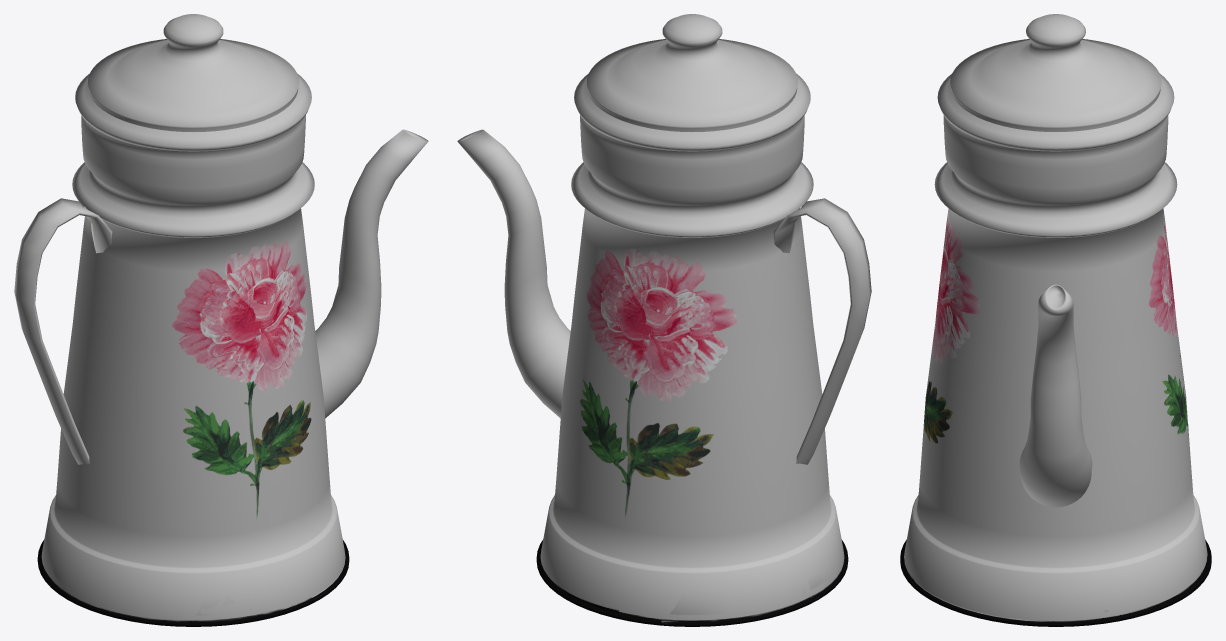
Rendered from TeaPot.fbx.
The picture shows the model from 3 angles, left to right: view 1: azimuth 30°, elevation 25°; view 2: azimuth 150°, elevation 25°; view 3: azimuth 270°, elevation 25°; orthographic projection.
Visible parts, largest first — view 1: Circle; view 2: Circle; view 3: Circle.
Boxes of the visible parts, bbox=[...] form: Circle: bbox=[14, 14, 428, 626]; Circle: bbox=[457, 14, 871, 626]; Circle: bbox=[900, 14, 1211, 626].
Size of the model in its own units: 224 by 283 by 147.
